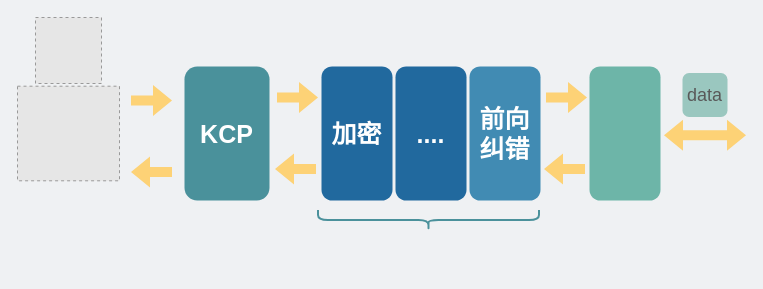
The diagram is 763 pixels wide and 289 high, and some of its shapes have lost their labels. Grey dashed boxes stand in for pictures. The centre of each missing label's shape, as x and y in pixels:
UDP: (x=624, y=133)
各种中间层: (x=428, y=219)
